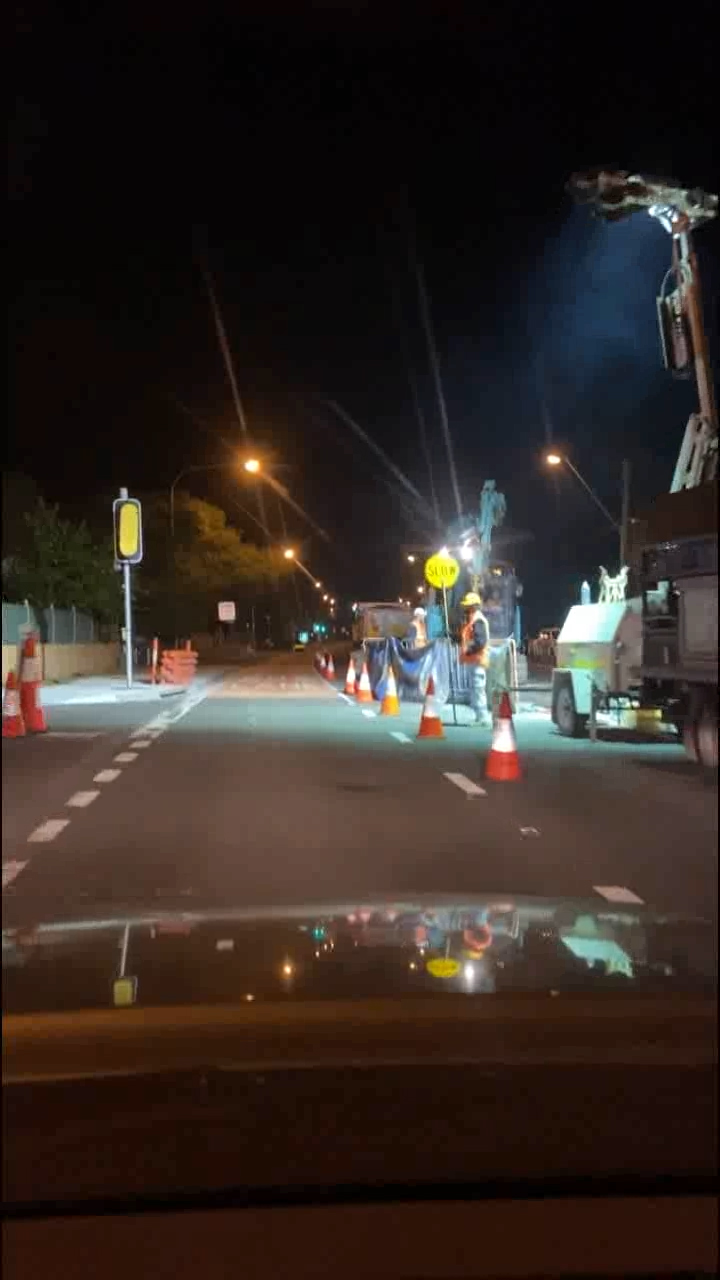person: (404, 548, 500, 723)
road cone: (2, 617, 66, 777), (481, 686, 525, 804), (147, 636, 206, 686), (339, 657, 370, 704)
truck: (554, 167, 718, 748)
